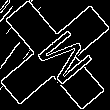M_SW: (21, 21, 89, 89)
